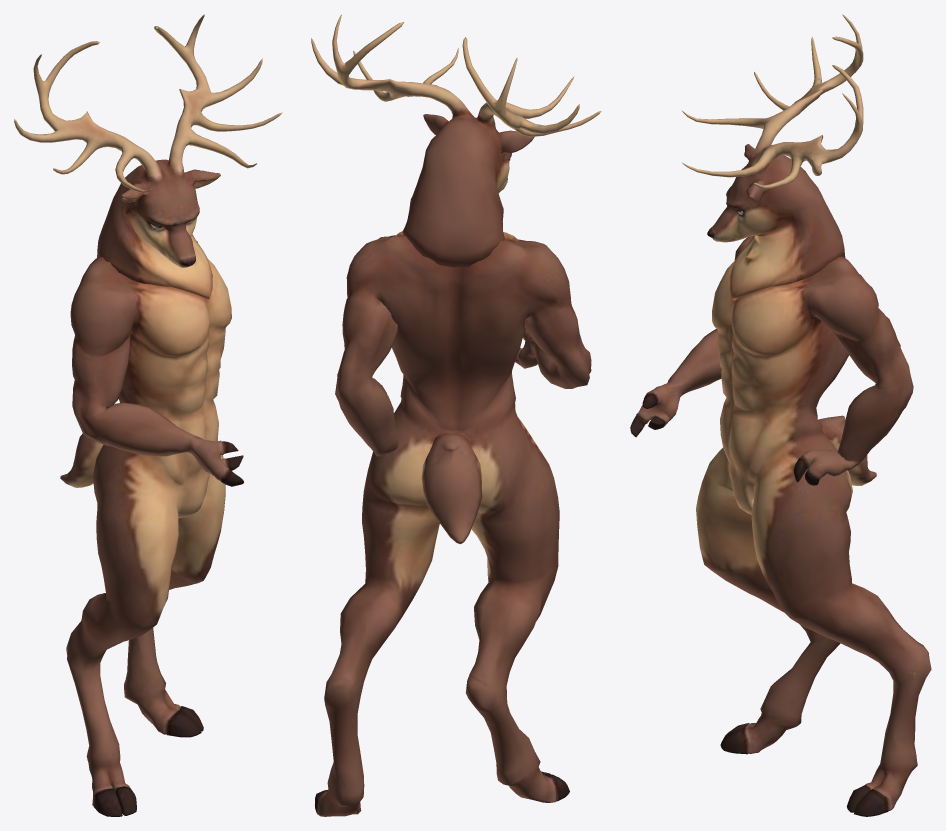
The model's file is TarykDraco.gltf.
The picture shows the model from 3 angles, left to right: view 1: azimuth 30°, elevation 25°; view 2: azimuth 150°, elevation 25°; view 3: azimuth 270°, elevation 25°; orthographic projection. The views are drawn at different scales.
Visible parts, largest first — view 1: Body, Head; view 2: Body, Head; view 3: Body, Head.
Part boxes in pixels (x1,y1,x2,y2): Body: (60, 241, 243, 816); Head: (14, 14, 282, 299); Body: (315, 231, 591, 816); Head: (311, 14, 601, 267); Body: (630, 236, 931, 816); Head: (682, 14, 863, 300).
Bounding box in the file's own units: 5216 × 14556 × 5502.
Materials: 2 (2 with a texture image).
